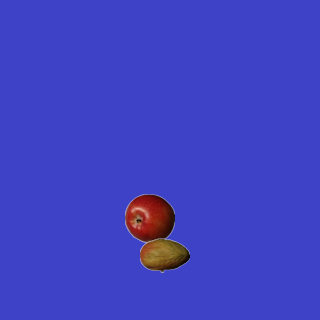Apple Braeburn: (124, 193, 174, 243)
Papaya: (139, 230, 189, 280)
